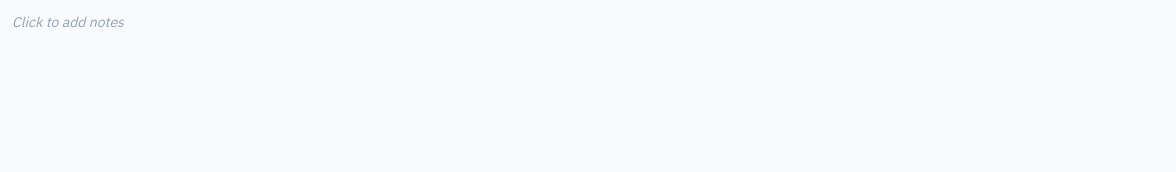
Test: NotesCell R5 inline edit contract › Enter commits immediately (no debounce wait)
Click the button with test id "notes-cell-trigger". click: (68, 22)
box: [12,12,124,32]
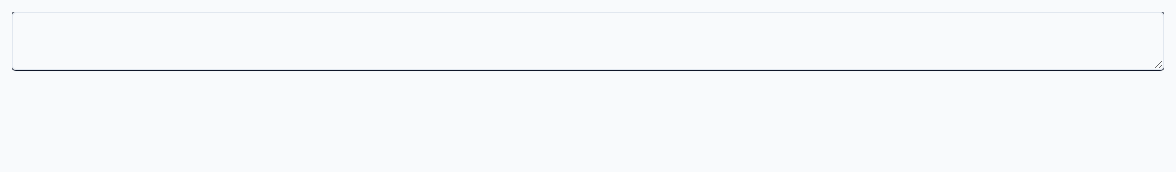
Type "immediate" into the text box with test id "notes-cell-input". click: (588, 41)
box: [12,12,1164,70]
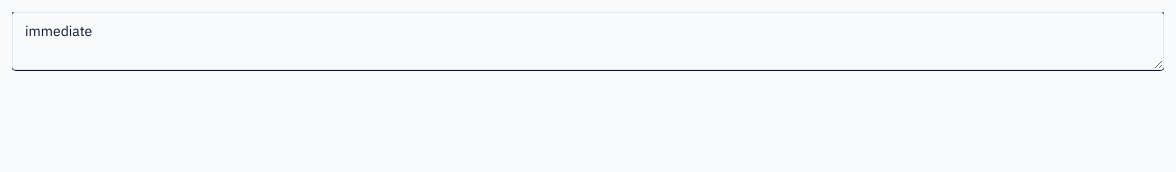
Press Enter in the text box with test id "notes-cell-input", box [12,12,1164,70]
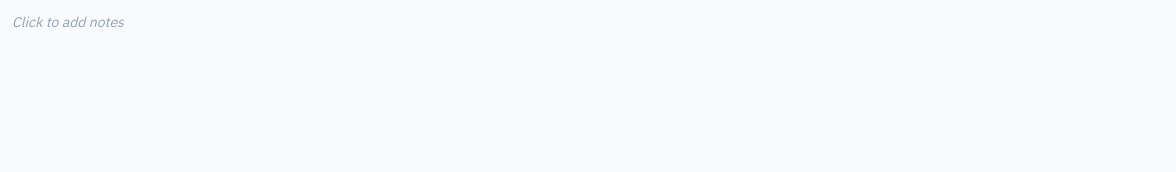
Result: the text box with test id "notes-cell-input" is gone
